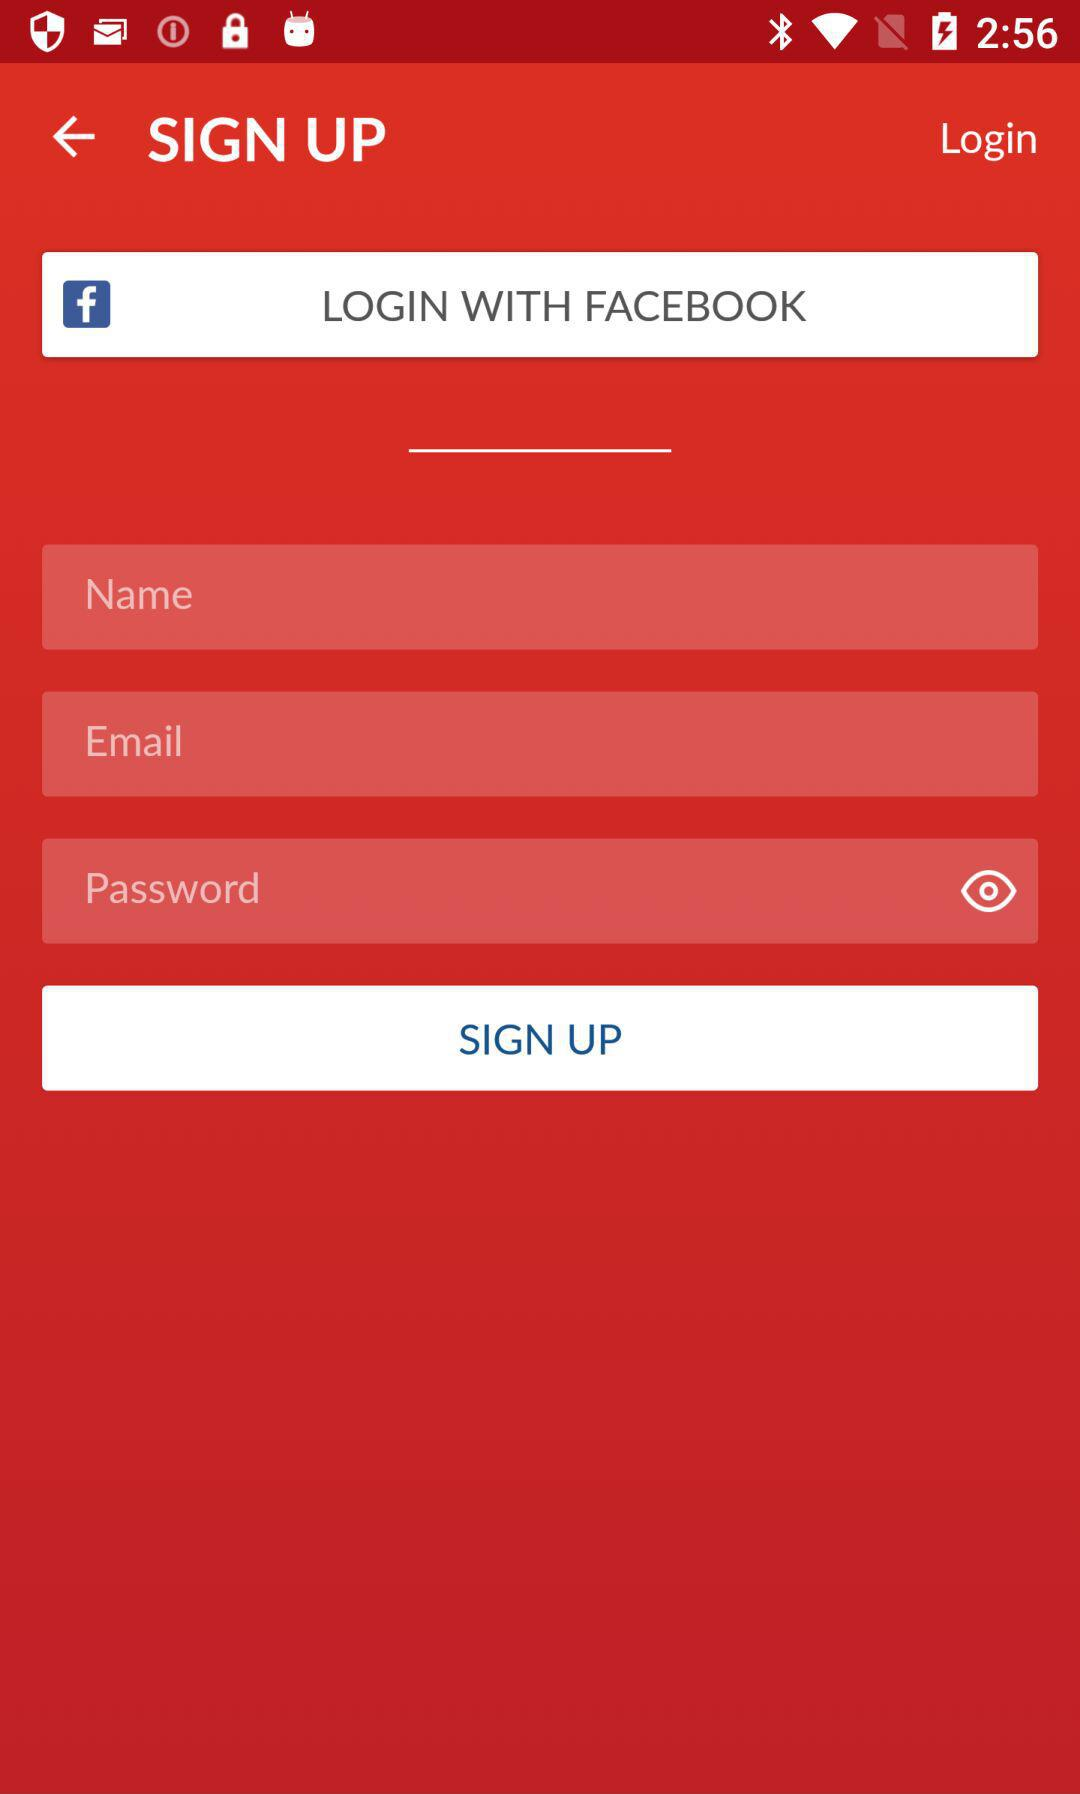EditText: (42, 691, 1039, 798), (42, 545, 1039, 651), (42, 838, 1039, 944)
Icon: (960, 869, 1019, 912), (53, 117, 97, 160)
Text: (149, 117, 387, 164), (88, 871, 260, 905), (942, 120, 1038, 164), (87, 579, 192, 613), (88, 725, 182, 759)
TextButton: (42, 252, 1039, 359), (42, 985, 1039, 1092)
UpperTaskBar: (1, 1, 1080, 64)
